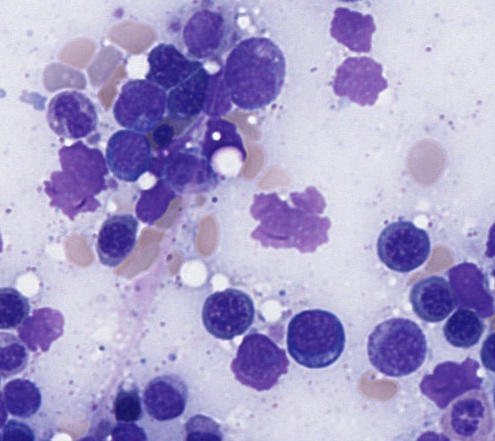objectness: (434, 391, 484, 441), (376, 321, 426, 371), (48, 89, 98, 139), (162, 145, 212, 195), (101, 387, 151, 437), (114, 74, 164, 124), (264, 195, 314, 245), (181, 4, 231, 54), (141, 372, 191, 422), (192, 67, 242, 117), (39, 175, 89, 225), (129, 180, 179, 230), (16, 304, 66, 354), (423, 351, 473, 401), (334, 52, 384, 102), (56, 140, 106, 190), (195, 110, 245, 160), (330, 2, 380, 52), (205, 285, 255, 335), (379, 220, 429, 270), (163, 71, 213, 121), (437, 302, 487, 352), (89, 214, 139, 264), (145, 37, 195, 87), (409, 271, 459, 321), (292, 306, 342, 356), (226, 47, 276, 97), (448, 261, 495, 311), (0, 372, 44, 422), (0, 285, 37, 335), (0, 334, 36, 384), (101, 407, 151, 441), (0, 407, 42, 441)
